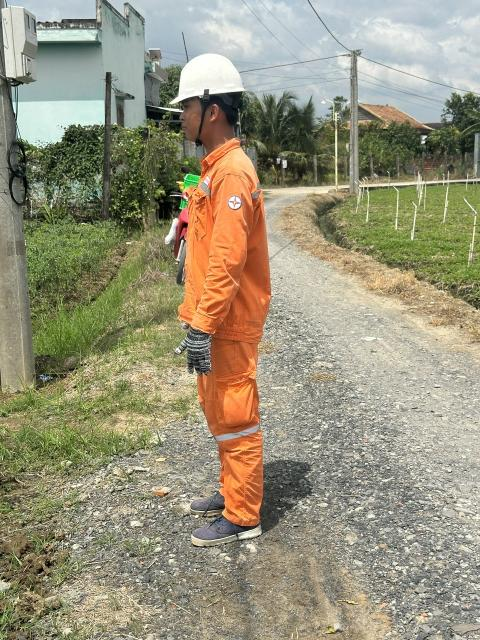gloves: (172, 323, 227, 381)
helmet: (173, 50, 252, 104)
shoes: (188, 519, 284, 550), (185, 489, 247, 520)
